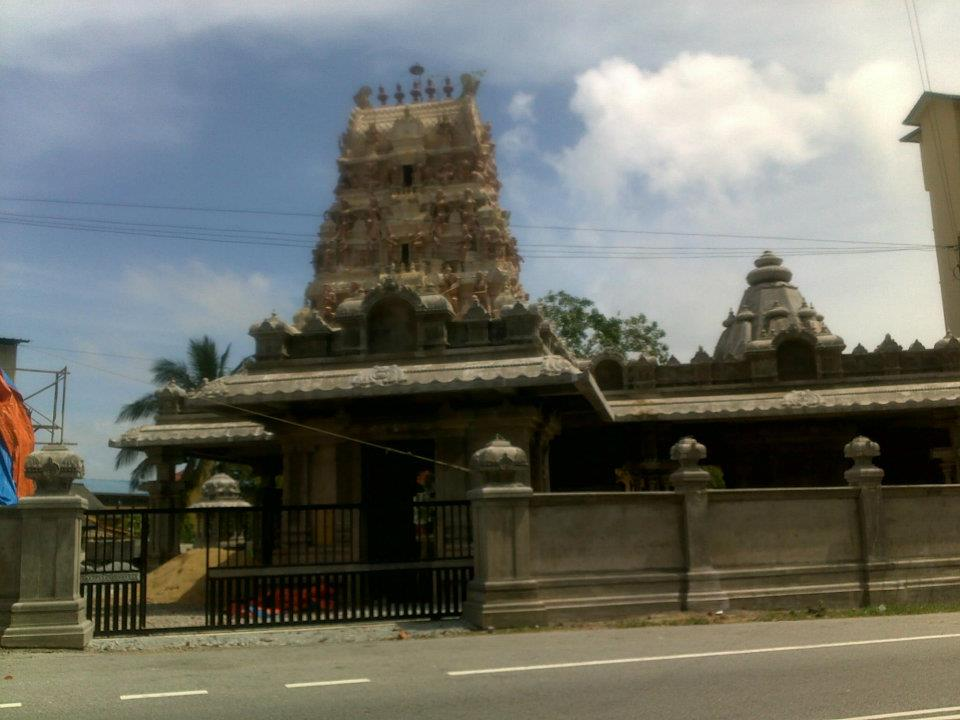Hindu Temple: (236, 61, 532, 488)
